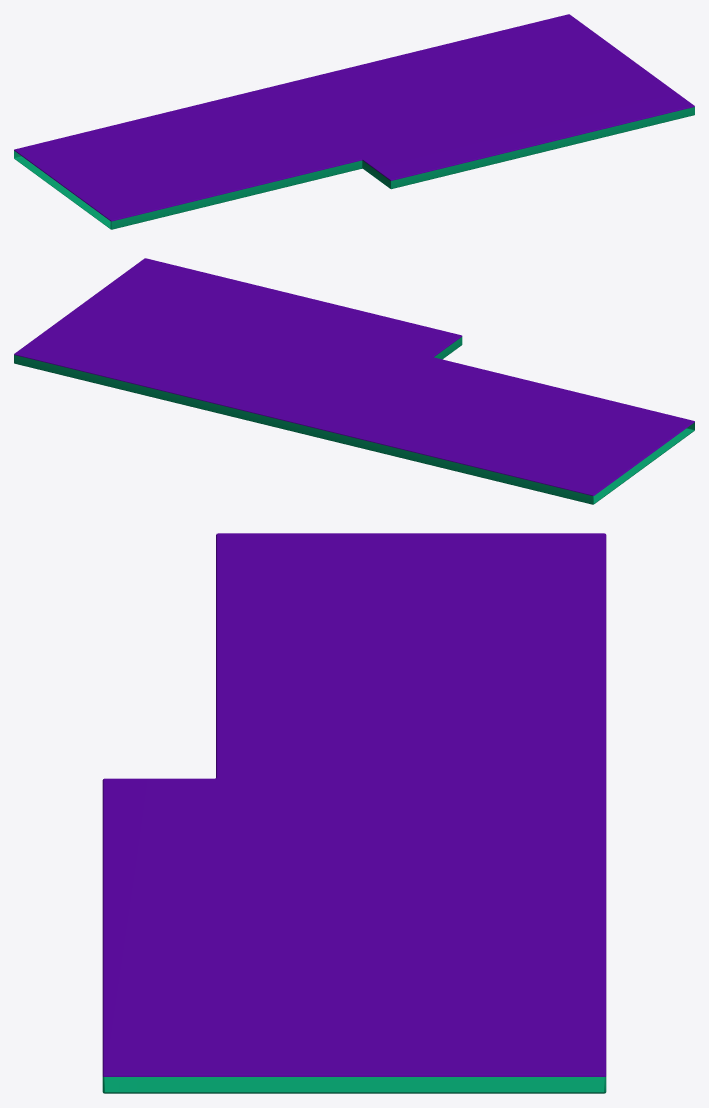
Rendered from MIddle_Floor_Sm.fbx.
3 views of the same model, one above another, from view 1: azimuth 30°, elevation 25°; view 2: azimuth 150°, elevation 25°; view 3: azimuth 270°, elevation 25° (orthographic). The views are drawn at different scales.
Parts seen in each view (by area): view 1: pCube33; view 2: pCube33; view 3: pCube33.
Part boxes in pixels (x1,y1,x2,y2): pCube33: (14,14,694,229); pCube33: (14,258,694,504); pCube33: (102,533,606,1093).
Bounding box in the file's own units: 51.12 × 0.8465 × 20.07.
